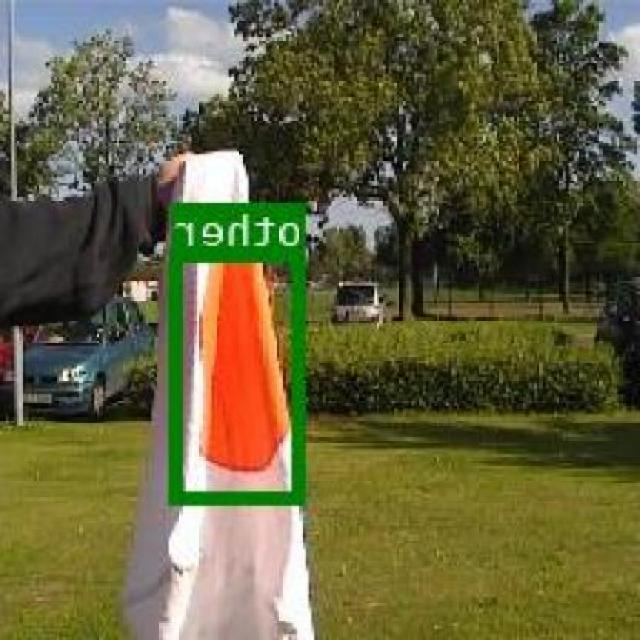other: (174, 248, 306, 502)
